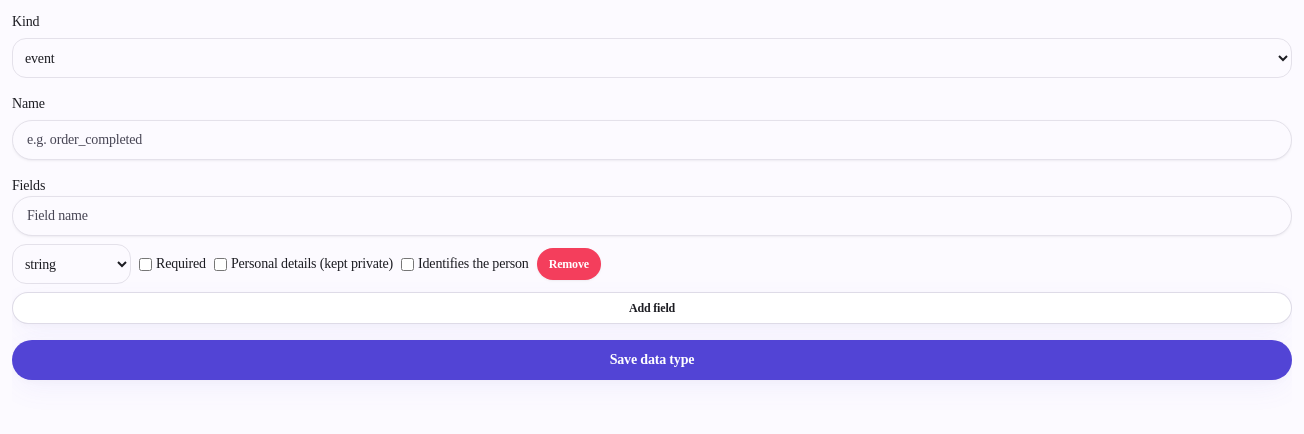
RegisterSchemaDefForm › says nothing was changed on a server failure instead of "something went wrong"
Type "order_completed" into the field labelled "Name". click: (652, 140)
box: [12, 120, 1292, 160]
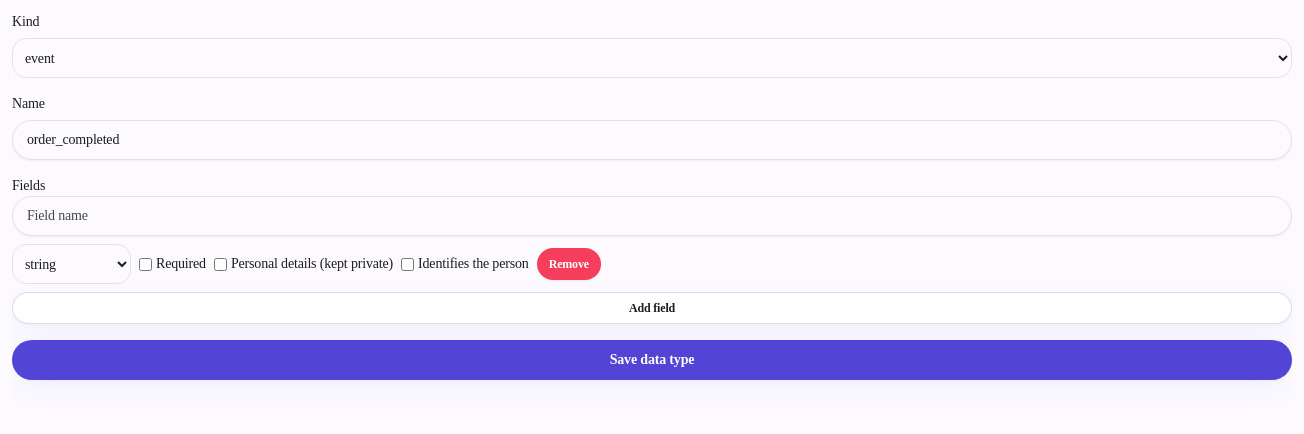
Type "order_id" into the field labelled "Field name". click: (652, 216)
box: [12, 196, 1292, 236]
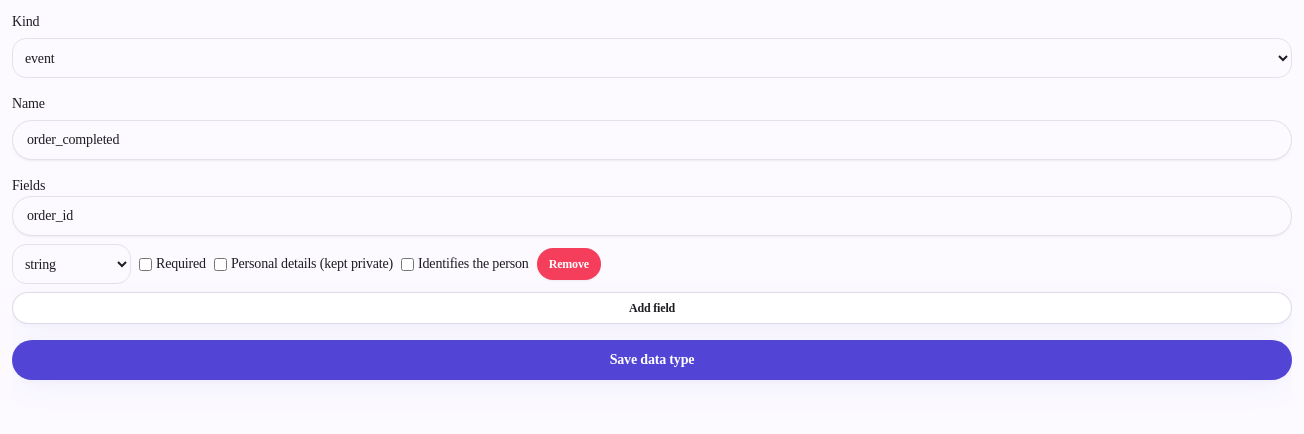
Click the button "Save data type". click: click(652, 360)
box: [12, 340, 1292, 380]
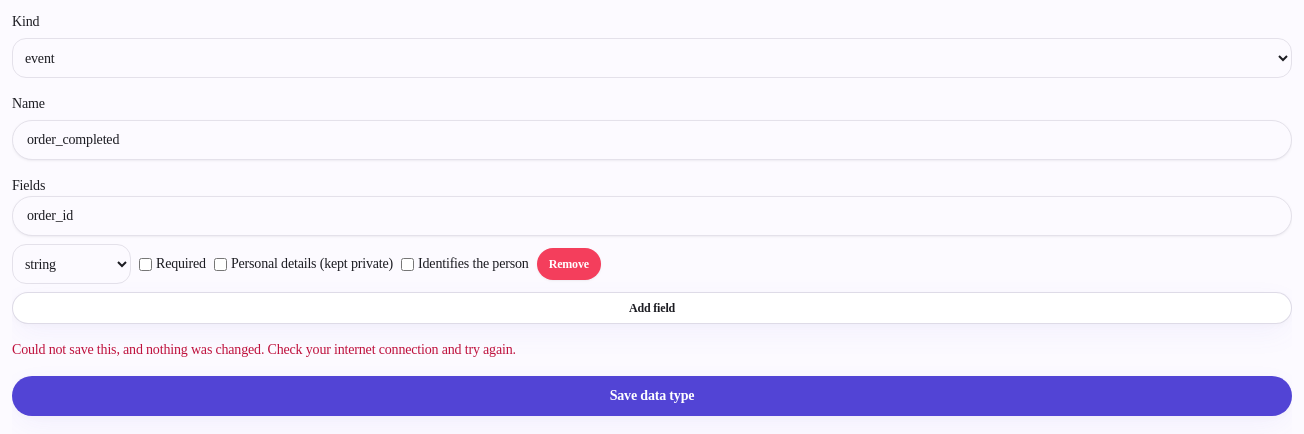
Expected: the message shows "nothing was changed", [12, 342, 516, 357]
